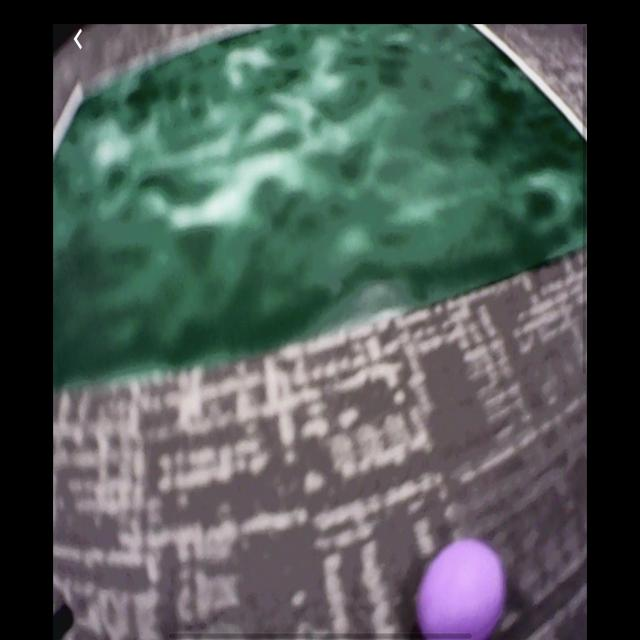ball: (414, 537, 507, 640)
